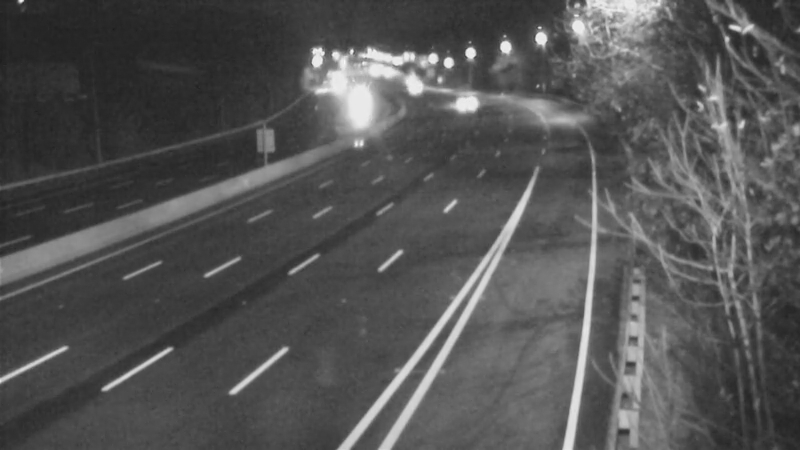vehicle: (386, 60, 436, 110), (436, 76, 486, 126), (334, 77, 384, 127)
